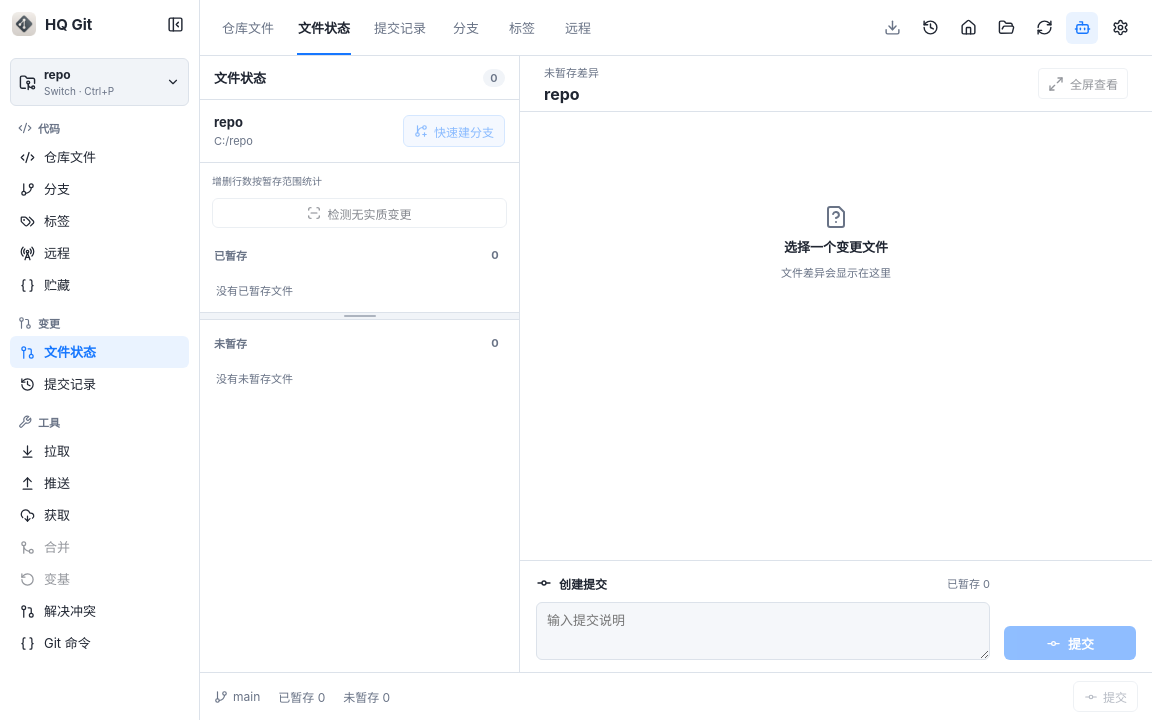
Test: conflict workbench › allows acknowledging marker prefixes without a whitespace suffix
The image size is (1152, 720).
Click the button with aria-label "打开解决冲突": (100, 611) [10,595,189,627]
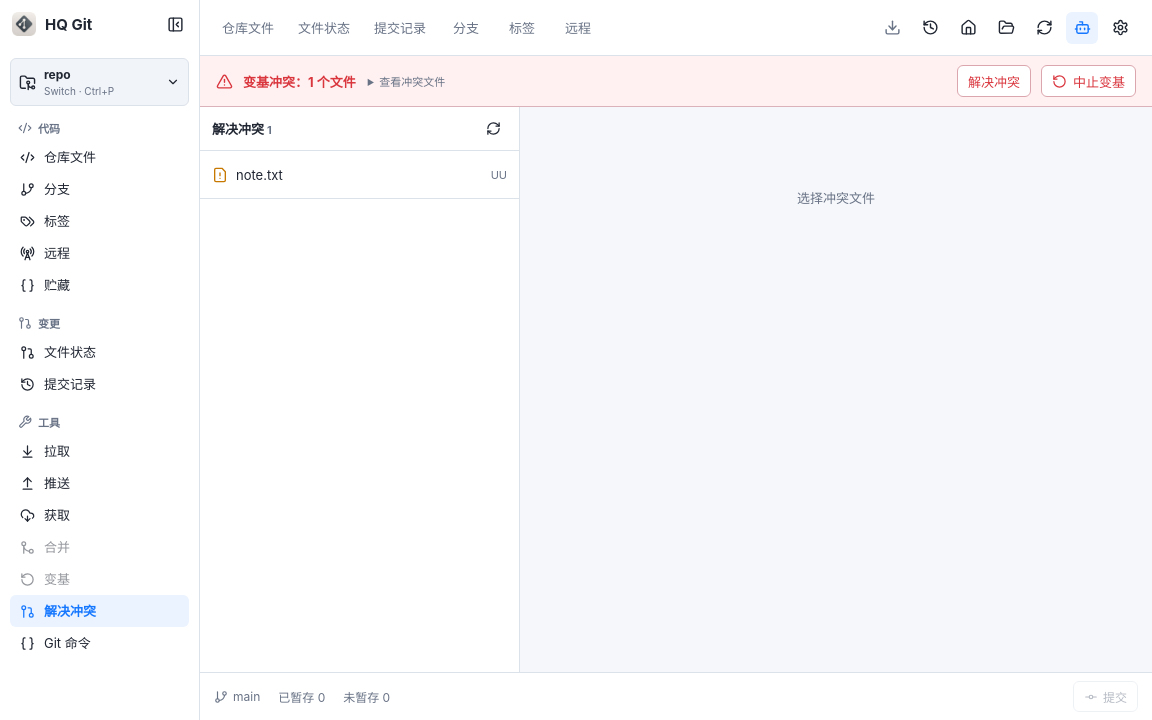
Click the button with aria-label "查看冲突 note.txt": (259, 174) [200,151,519,199]
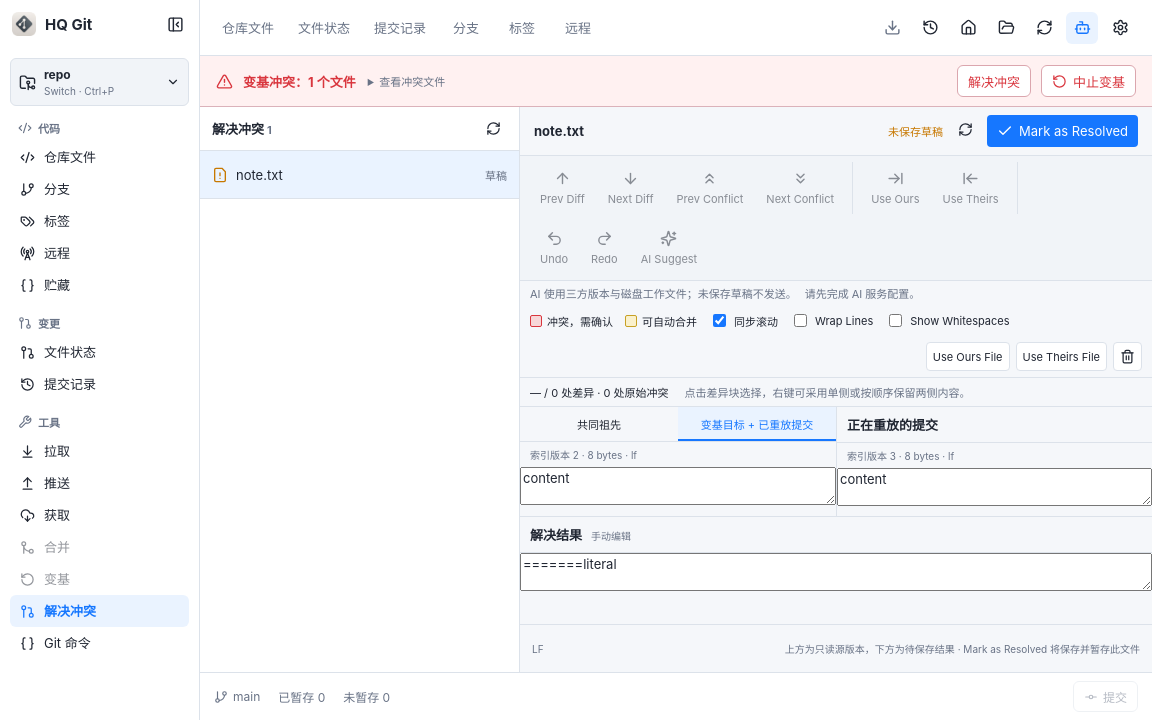
Click the button with aria-label "保存并标记已解决": (1062, 131) [987,115,1138,147]
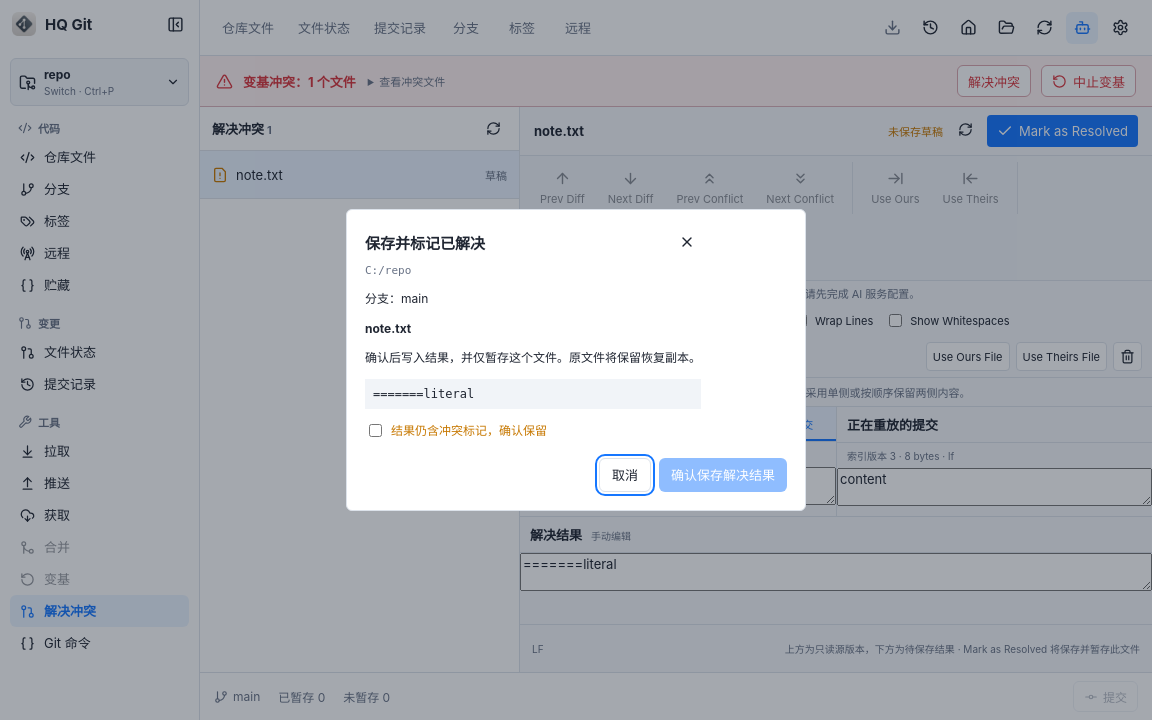
expect the checkbox named "确认保留冲突标记" is shown: met
Click the checkbox named "确认保留冲突标记": (376, 430) [369,424,382,437]
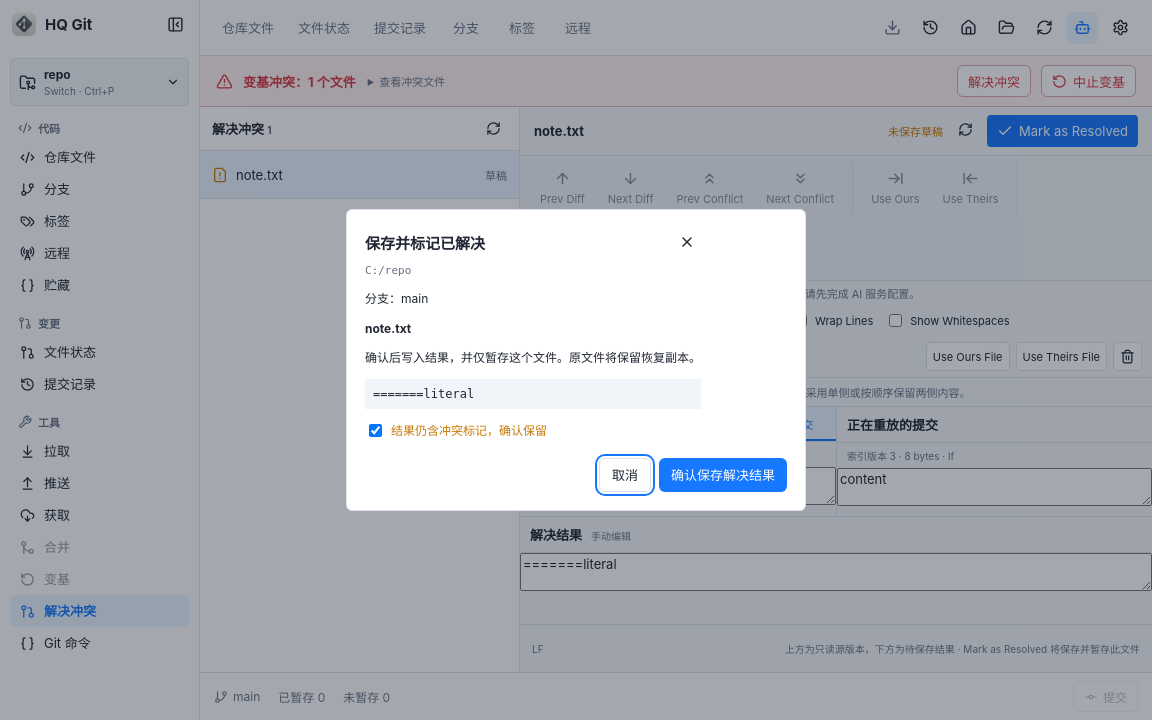
expect the button with aria-label "确认保存解决结果" is enabled: met, box [659,458,787,492]
